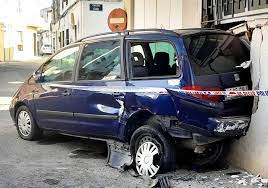car: (2, 20, 257, 184), (39, 43, 55, 55)
